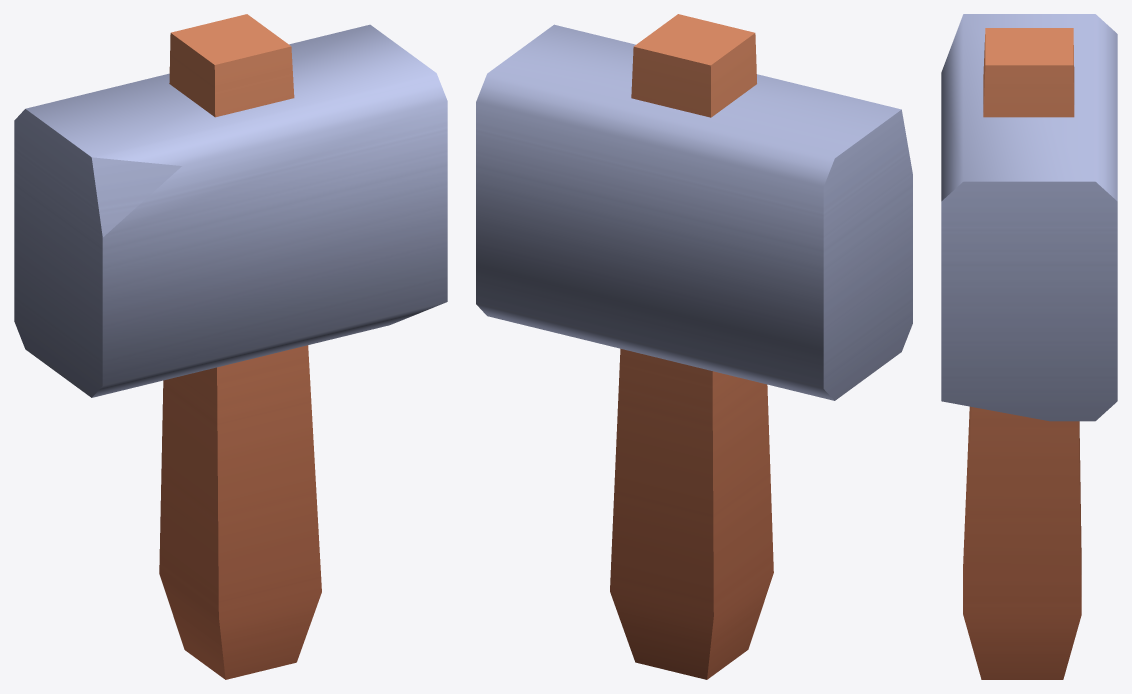
File: tool-hammer.obj
3 views of the same model, side by side, from view 1: azimuth 30°, elevation 25°; view 2: azimuth 150°, elevation 25°; view 3: azimuth 270°, elevation 25° (orthographic).
Parts seen in each view (by area): view 1: tool-hammer; view 2: tool-hammer; view 3: tool-hammer.
Part boxes in pixels (x1=…): tool-hammer: x1=14, y1=14, x2=447, y2=679; tool-hammer: x1=476, y1=14, x2=912, y2=679; tool-hammer: x1=941, y1=14, x2=1117, y2=679.
Size of the model in its own units: 0.09 by 0.1535 by 0.04.
1 material, 1 textured.
